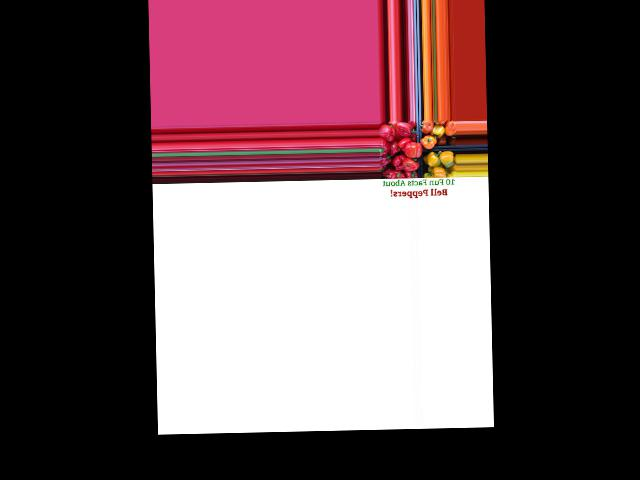bell_pepper: (387, 166, 409, 181)
